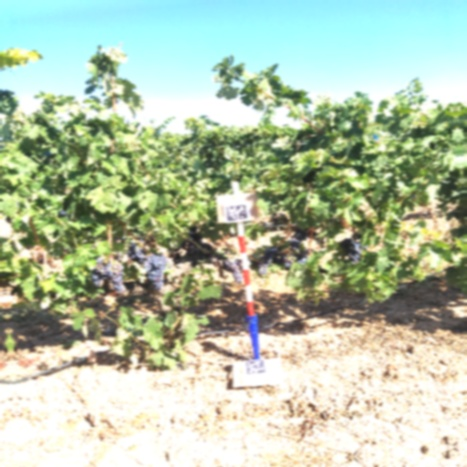QR: (225, 203, 248, 221), (244, 358, 267, 374)
